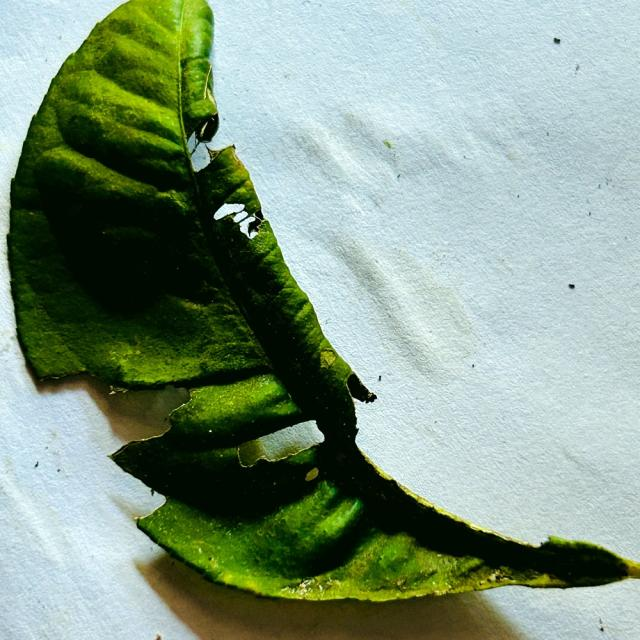Deficiency Leaf: (348, 372, 611, 542), (33, 375, 189, 521), (237, 422, 324, 480), (186, 132, 239, 172), (214, 201, 265, 239)
Lemon: (7, 0, 639, 600)
